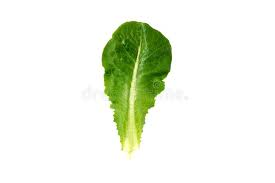lettuce: (101, 22, 171, 158)
